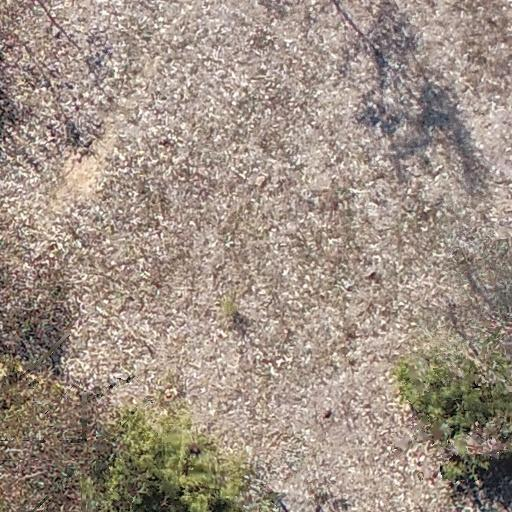stone: (339, 279, 356, 291)
